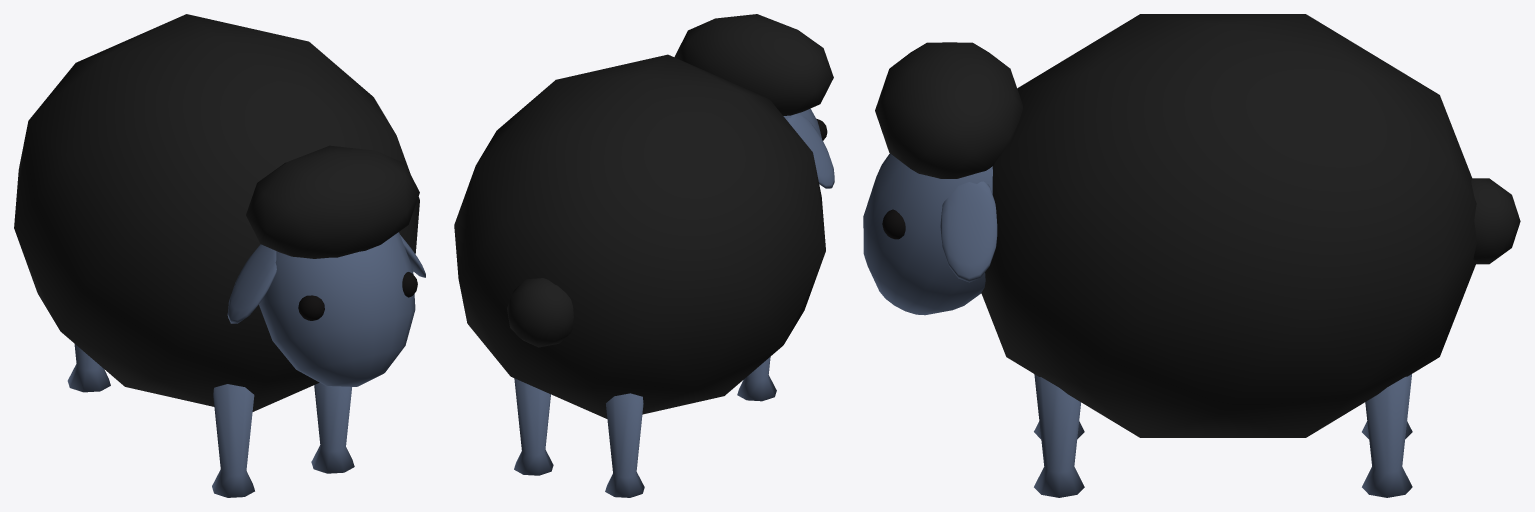
File: Sheep Dark.fbx
3 views of the same model, side by side, from view 1: azimuth 30°, elevation 25°; view 2: azimuth 150°, elevation 25°; view 3: azimuth 270°, elevation 25° (orthographic). The views are drawn at different scales.
Parts seen in each view (by area): view 1: USI.008 ship black; view 2: USI.008 ship black; view 3: USI.008 ship black.
Part boxes in pixels (left/top/right/bottom): USI.008 ship black: left=14, top=14, right=425, bottom=497; USI.008 ship black: left=454, top=14, right=834, bottom=497; USI.008 ship black: left=863, top=14, right=1520, bottom=497.
Bounding box in the file's own units: 160 × 177 × 241.
1 material, 1 textured.
